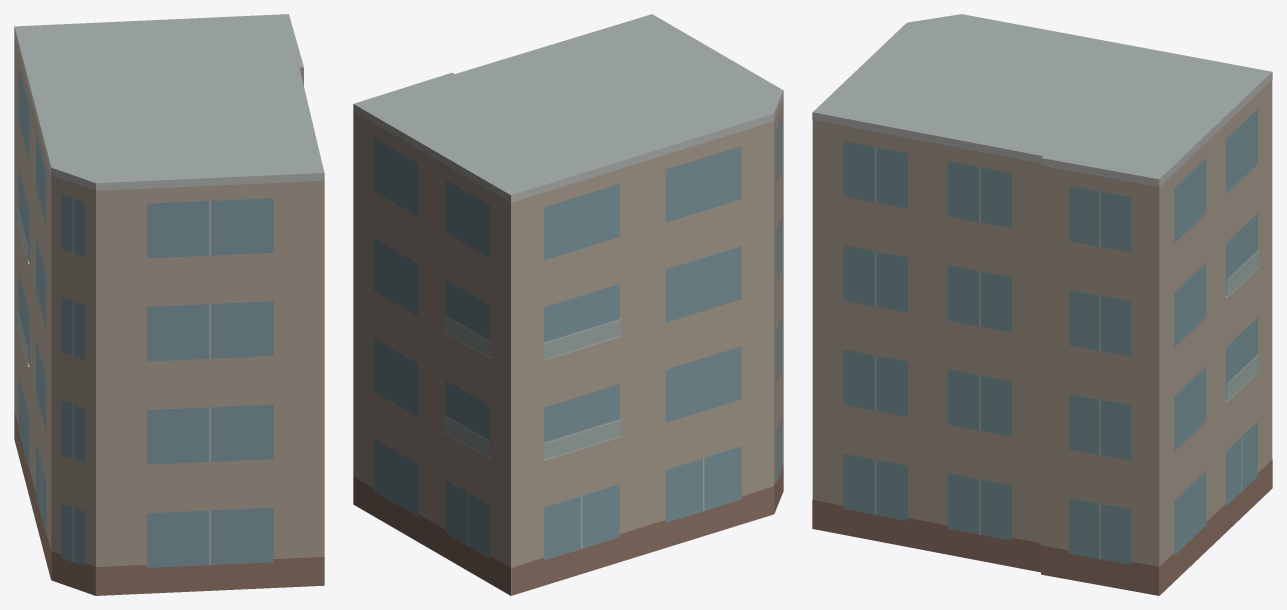
Rendered from survey-upis-32527272.glb.
The picture shows the model from 3 angles, left to right: view 1: azimuth 30°, elevation 25°; view 2: azimuth 150°, elevation 25°; view 3: azimuth 270°, elevation 25°; orthographic projection. The views are drawn at different scales.
Visible parts, largest first — view 1: survey-upis-32527272.tmp; view 2: survey-upis-32527272.tmp; view 3: survey-upis-32527272.tmp.
Part boxes in pixels (x1,y1,x2,y2): survey-upis-32527272.tmp: [14, 14, 324, 595]; survey-upis-32527272.tmp: [353, 14, 783, 595]; survey-upis-32527272.tmp: [812, 14, 1272, 595].
Size of the model in its own units: 11.16 by 13.1 by 13.12.
